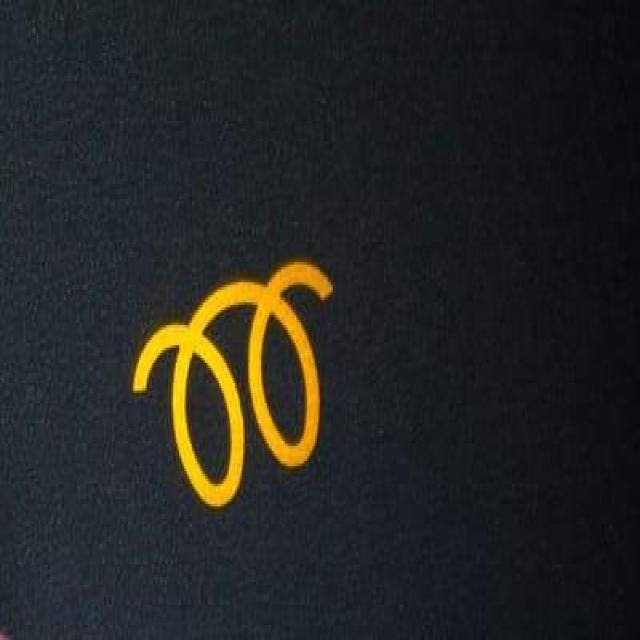kontrolka: (97, 223, 360, 536)
